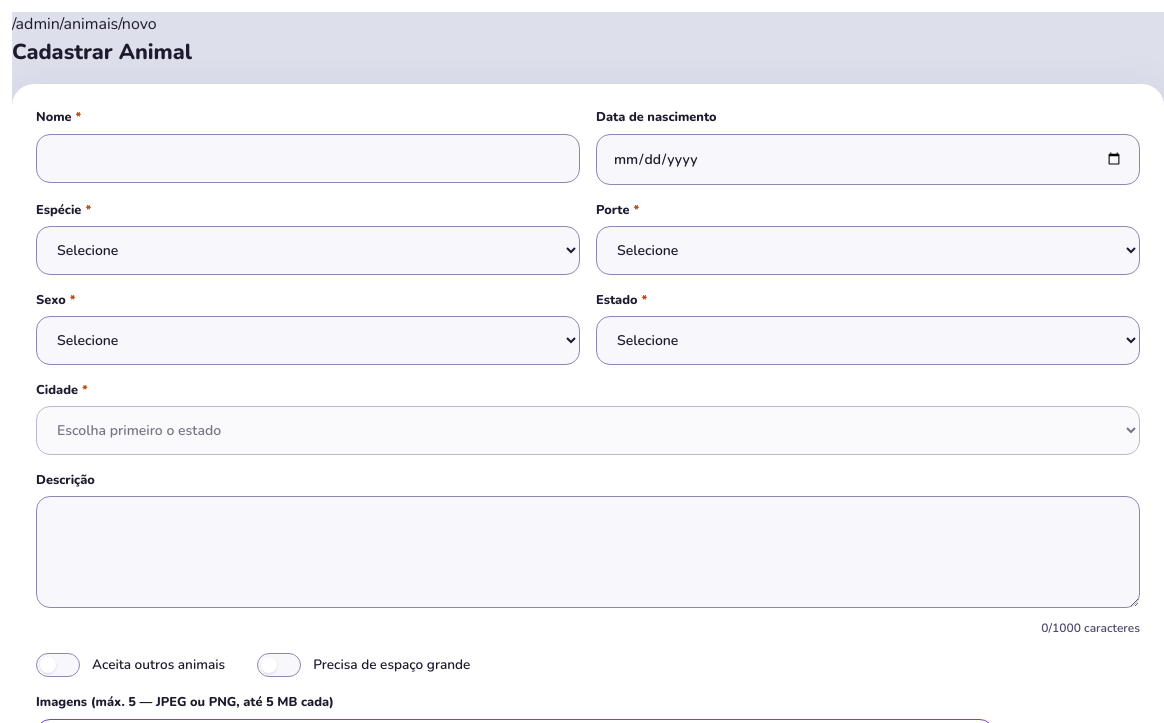
it: modo de cadastro › CT-38/RN-57: a resposta obsoleta de "PR" chegando por último é DESCARTADA
Select "PR" in the dropdown labelled "Estado*" at (868, 340), box [596,316,1140,365]
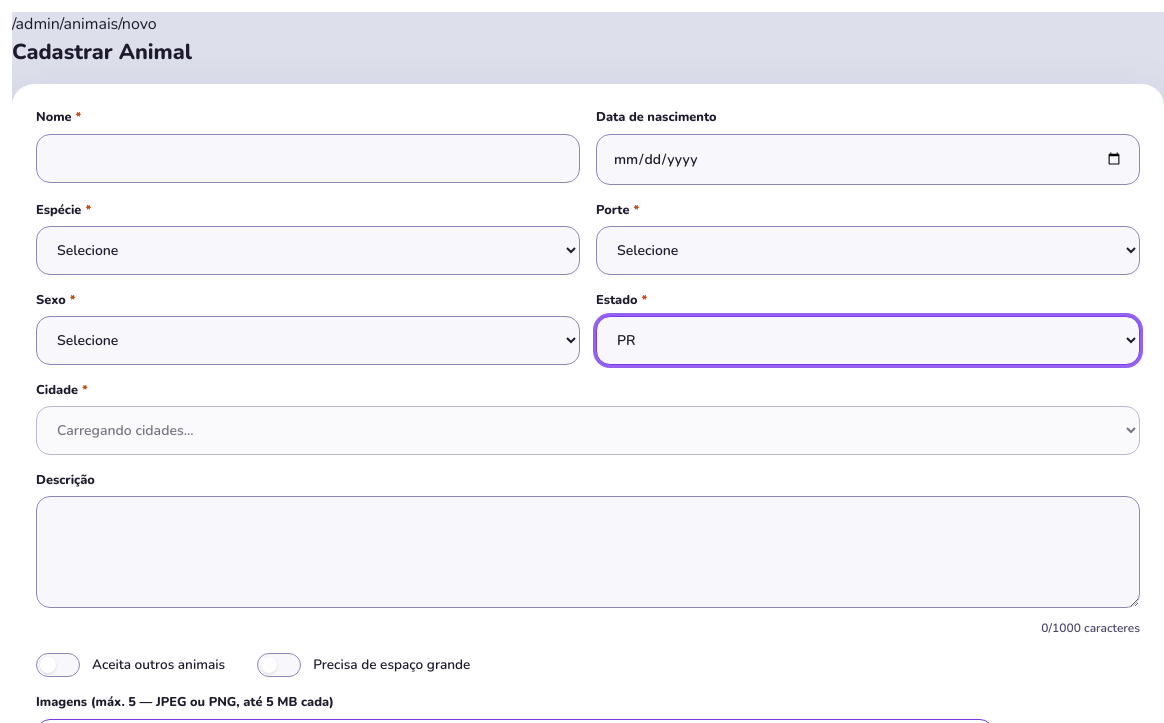
Select "ES" in the dropdown labelled "Estado*" at (868, 340), box [596,316,1140,365]
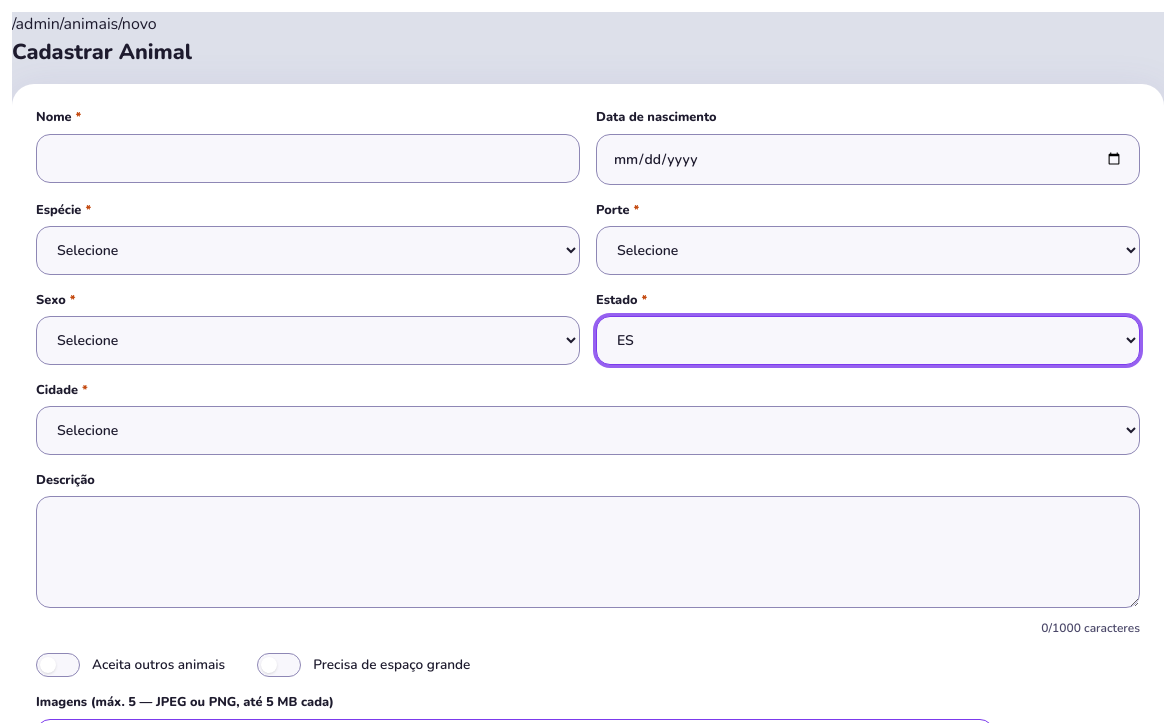
Check: the dropdown labelled "Cidade*" is enabled, box [36,406,1140,455]
